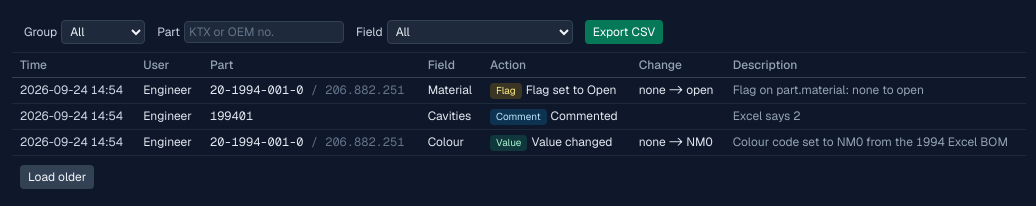
Test: WorksheetAuditView › opens the field like the cell menu Edit
Click the row with test id "audit-row-8" at point(519, 117), box [12, 104, 1026, 130]
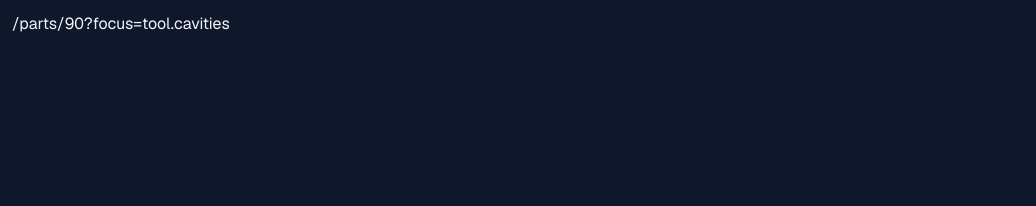
Result: the text with test id "where" reads "/parts/90?focus=tool.cavities" at [12, 13, 230, 34]
